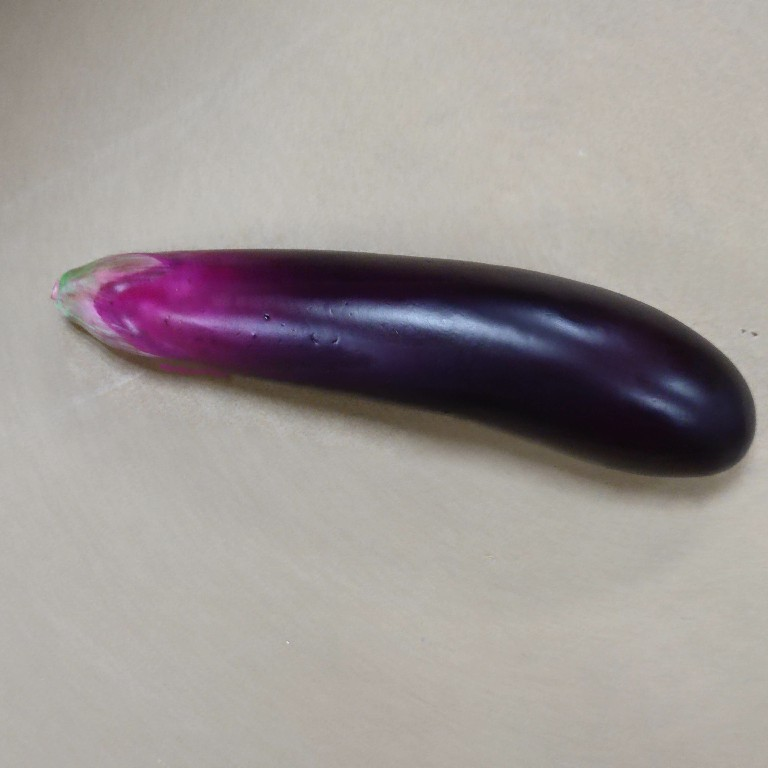fruit_eggplant: (44, 246, 759, 478)
